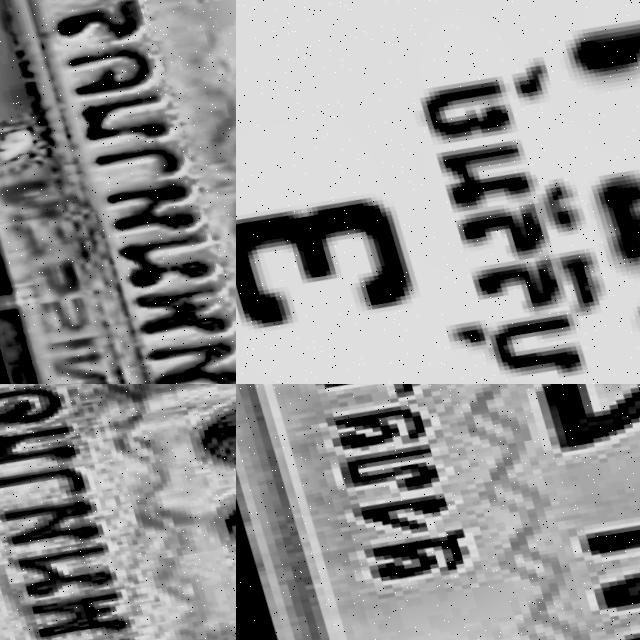license-plate: (236, 0, 640, 384), (236, 384, 640, 640), (0, 0, 236, 384), (0, 384, 236, 640)
